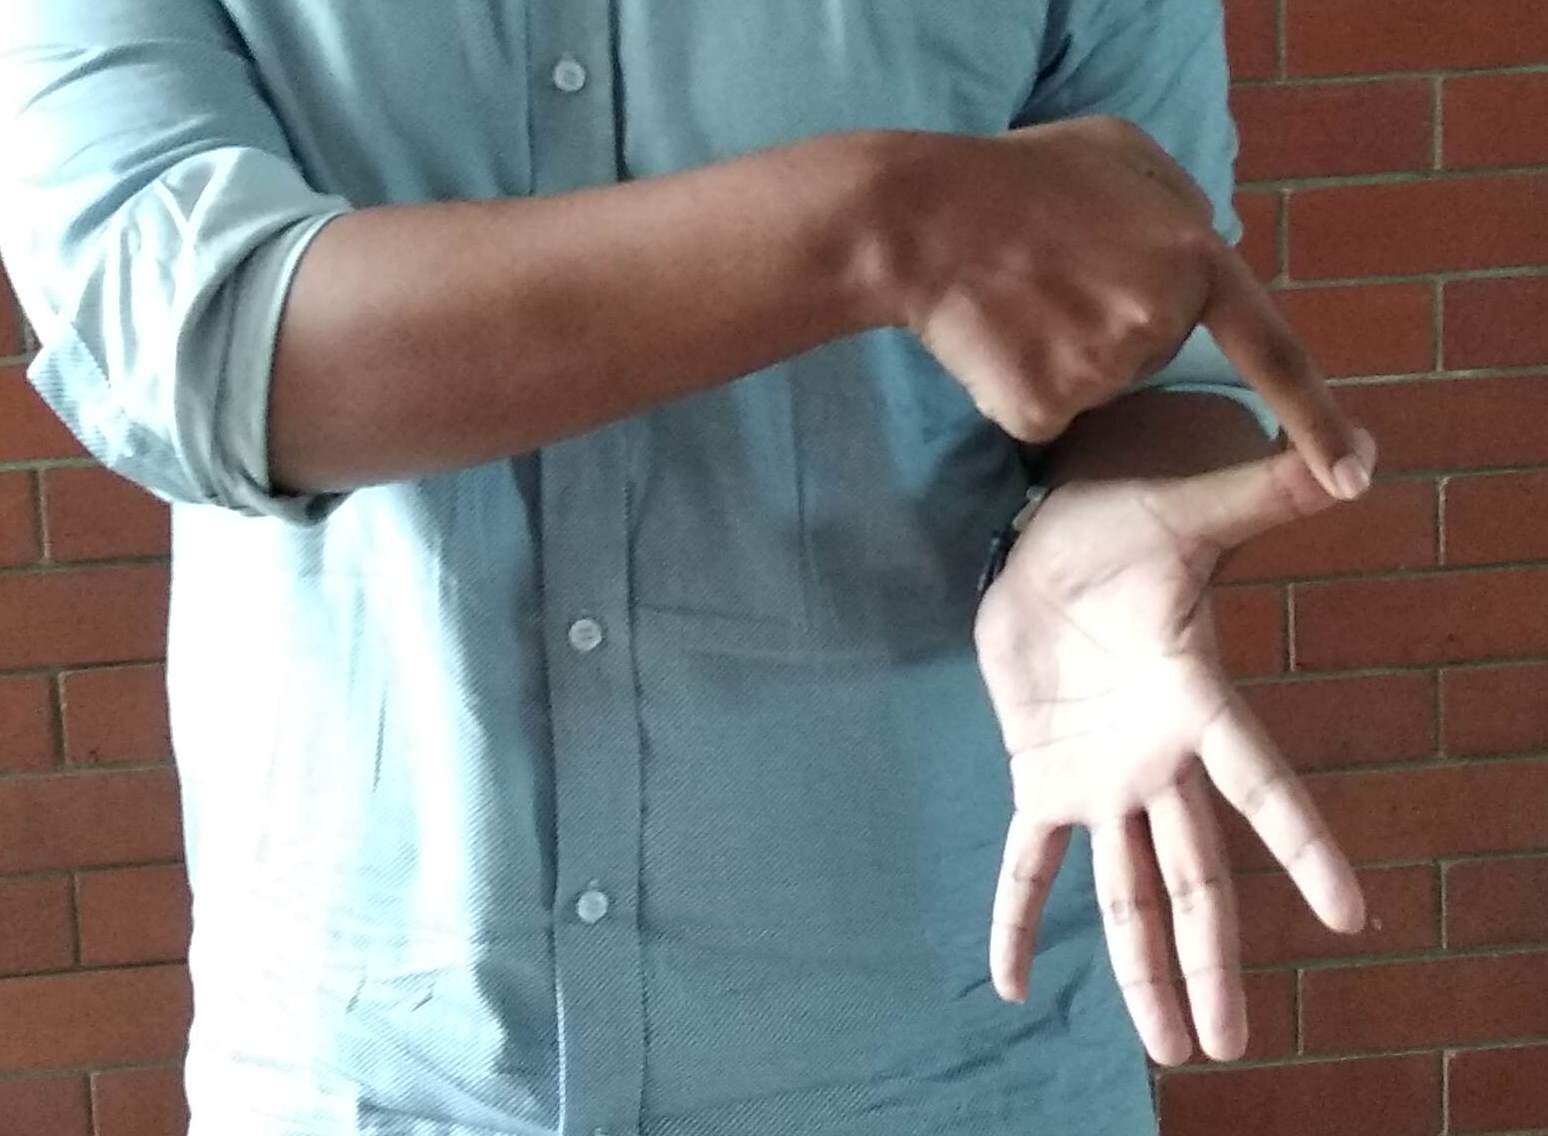a: (952, 154, 1405, 1059)
